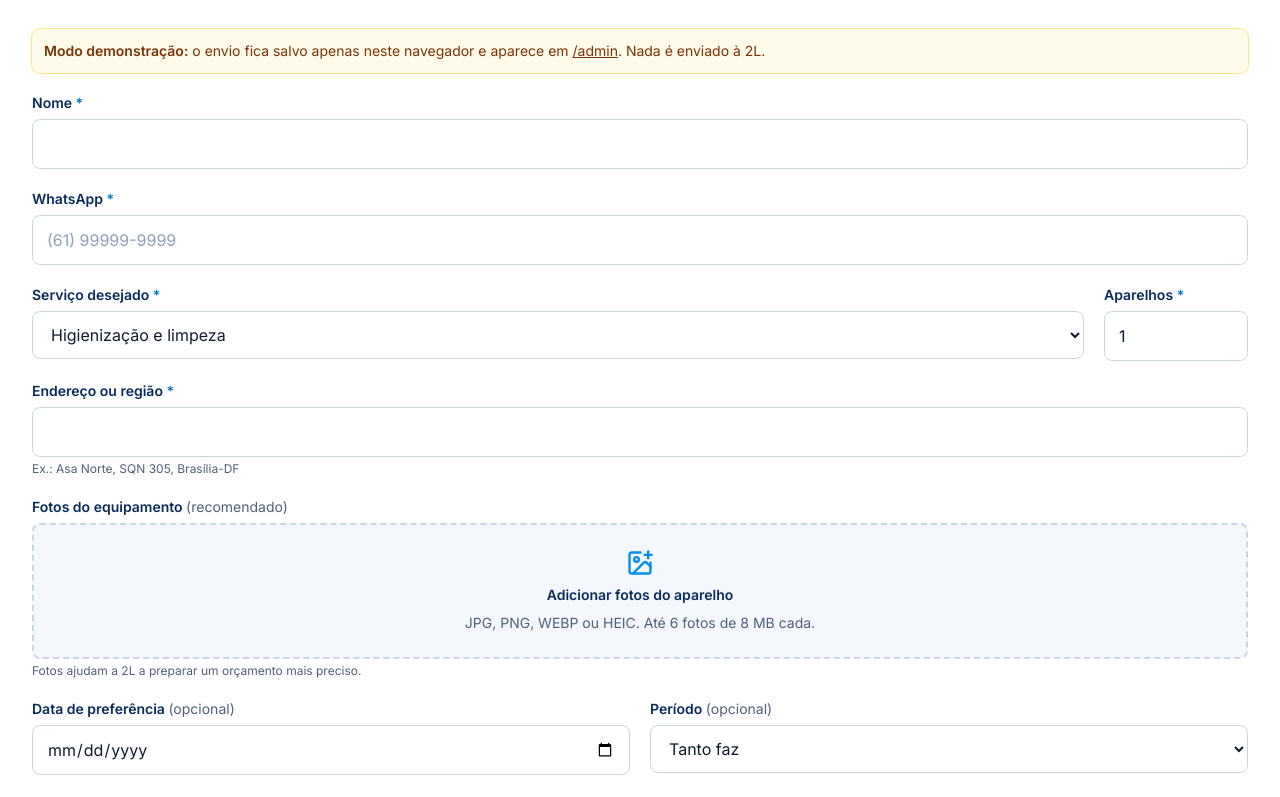
Test: QuoteForm › impede envio duplicado por cliques repetidos e mostra confirmação
In the field labelled "Nome *": (640, 144) top-left (32, 119), bottom-right (1248, 169), type "Maria Silva"
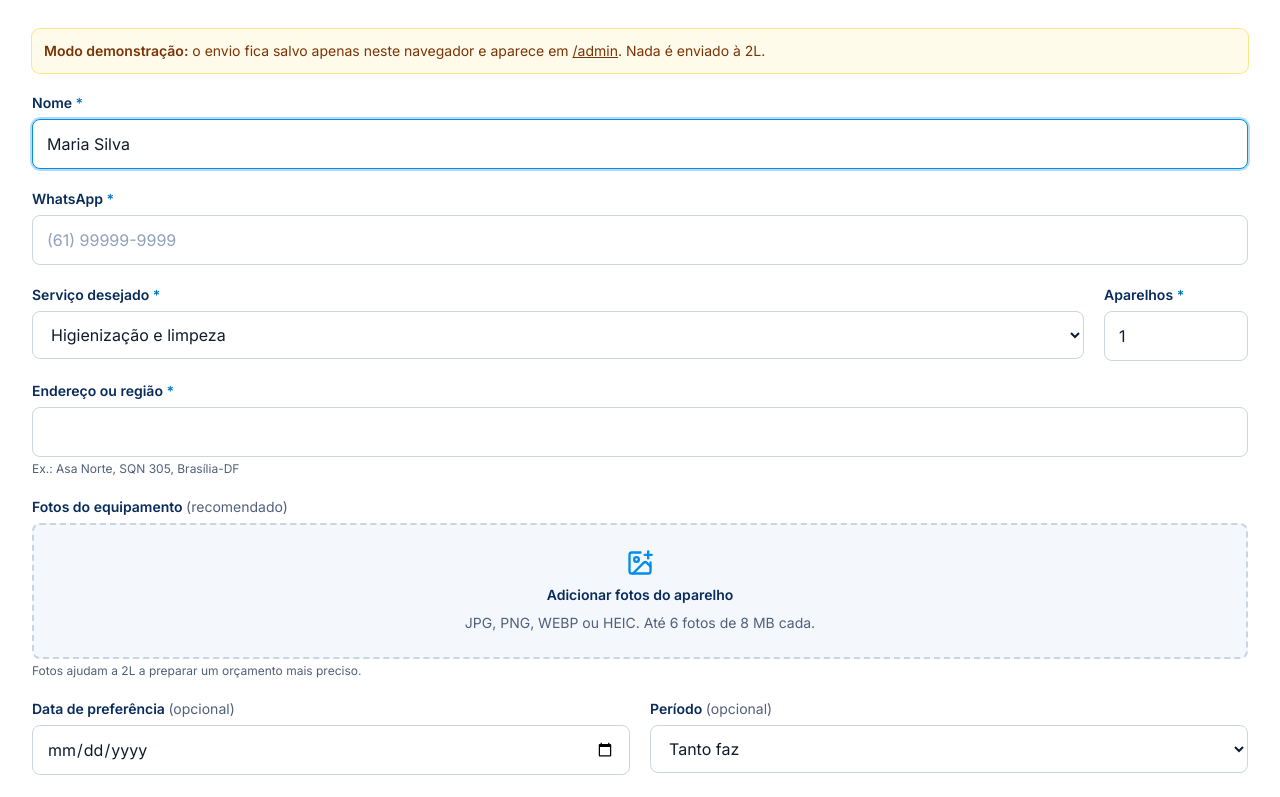
In the field labelled "WhatsApp *": (640, 240) top-left (32, 215), bottom-right (1248, 265), type "61994415050"
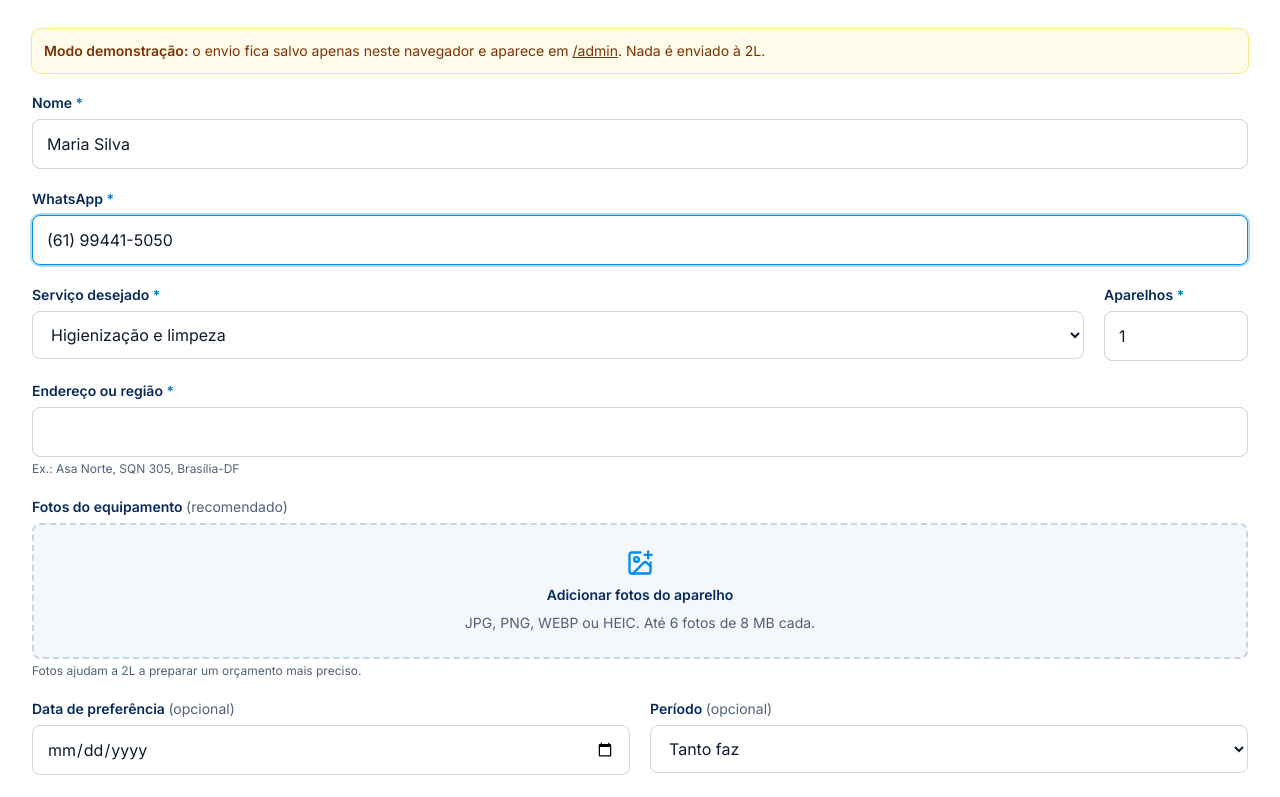
In the field labelled "Endereço ou região *": (640, 432) top-left (32, 407), bottom-right (1248, 457), type "Asa Norte"
(page scrolled)
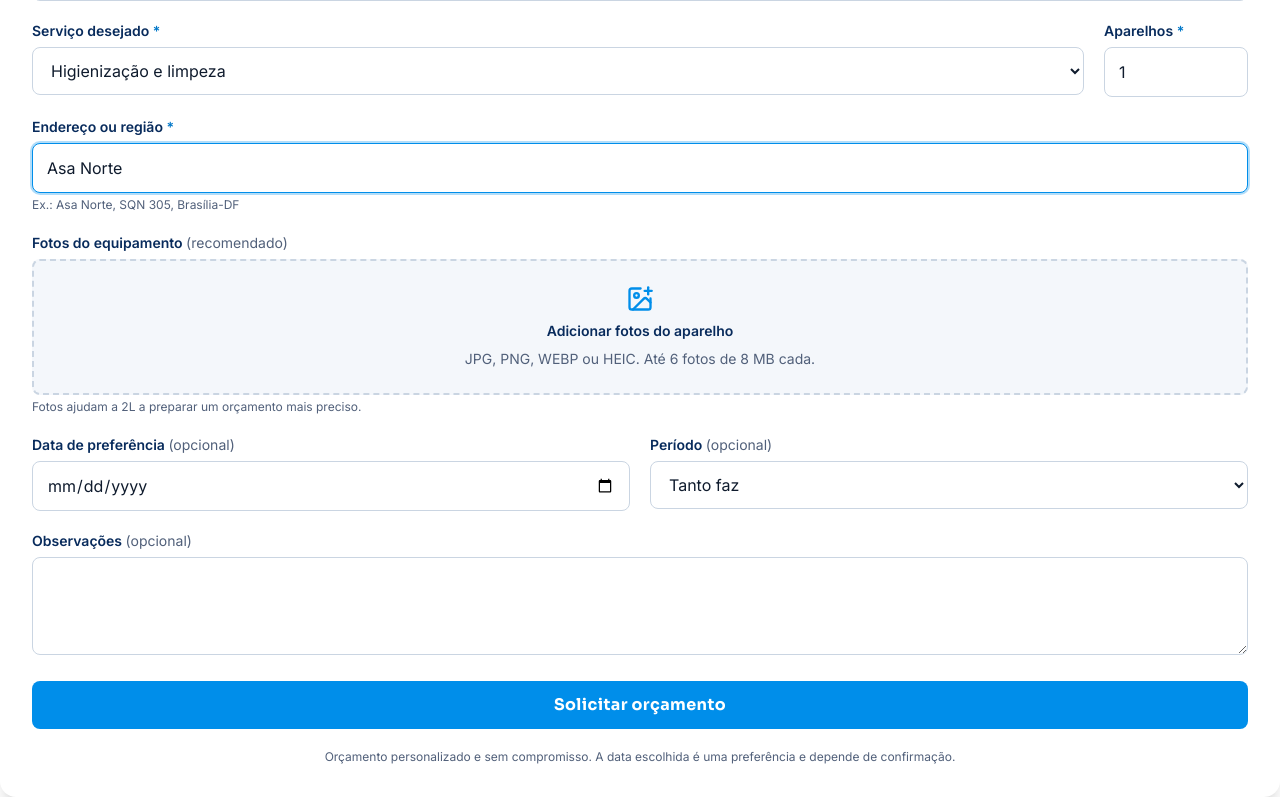
Click the button "Solicitar orçamento": (640, 705) top-left (32, 681), bottom-right (1248, 729)
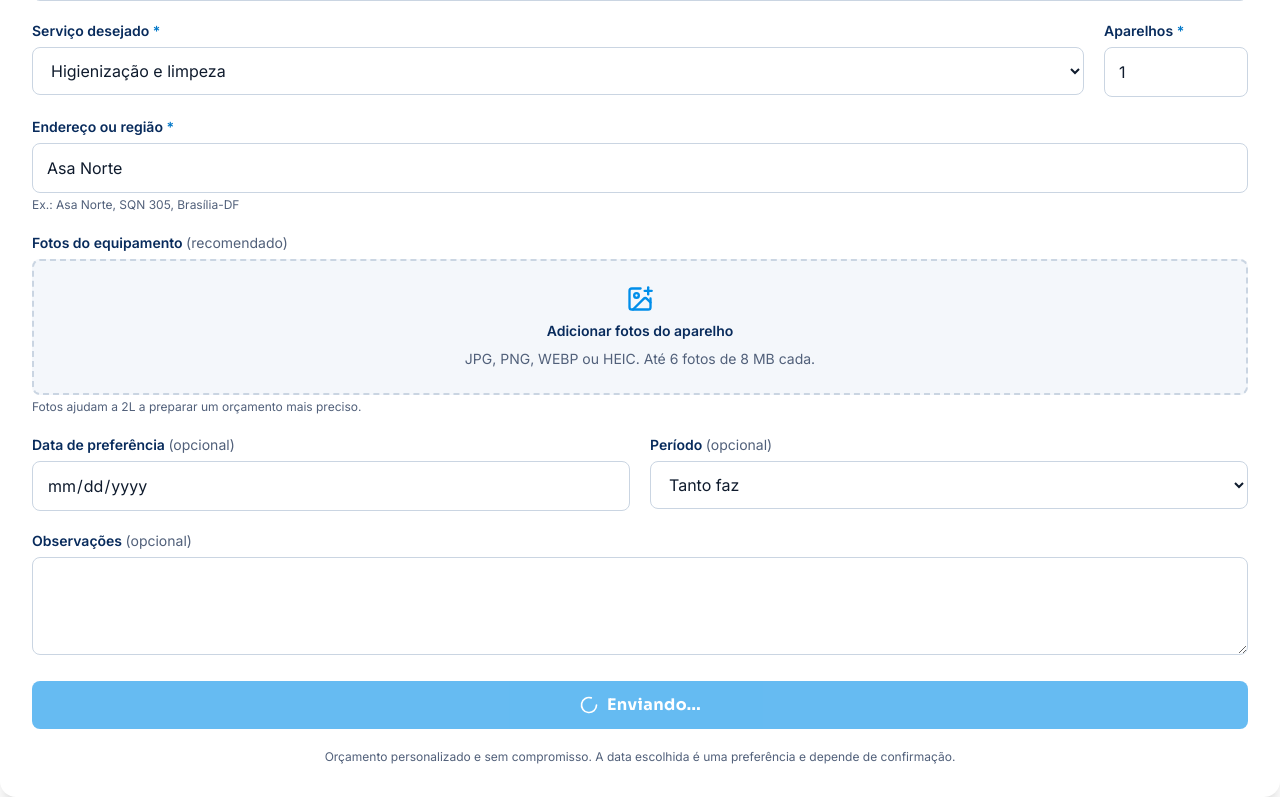
Click the button named "solicitar orçamento": (640, 705) top-left (32, 681), bottom-right (1248, 729)
(page scrolled)
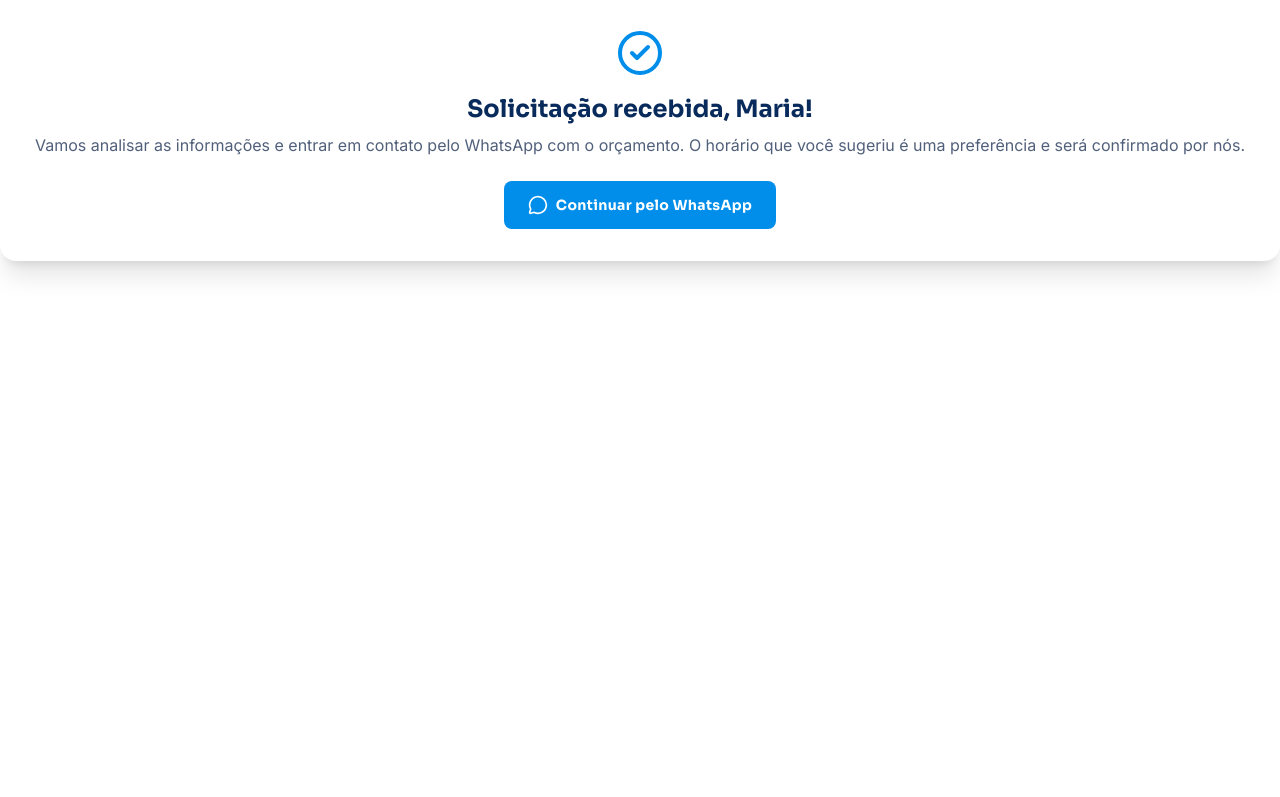
Result: the heading "Solicitação recebida, Maria!" is shown at top-left (467, 94), bottom-right (813, 124)
